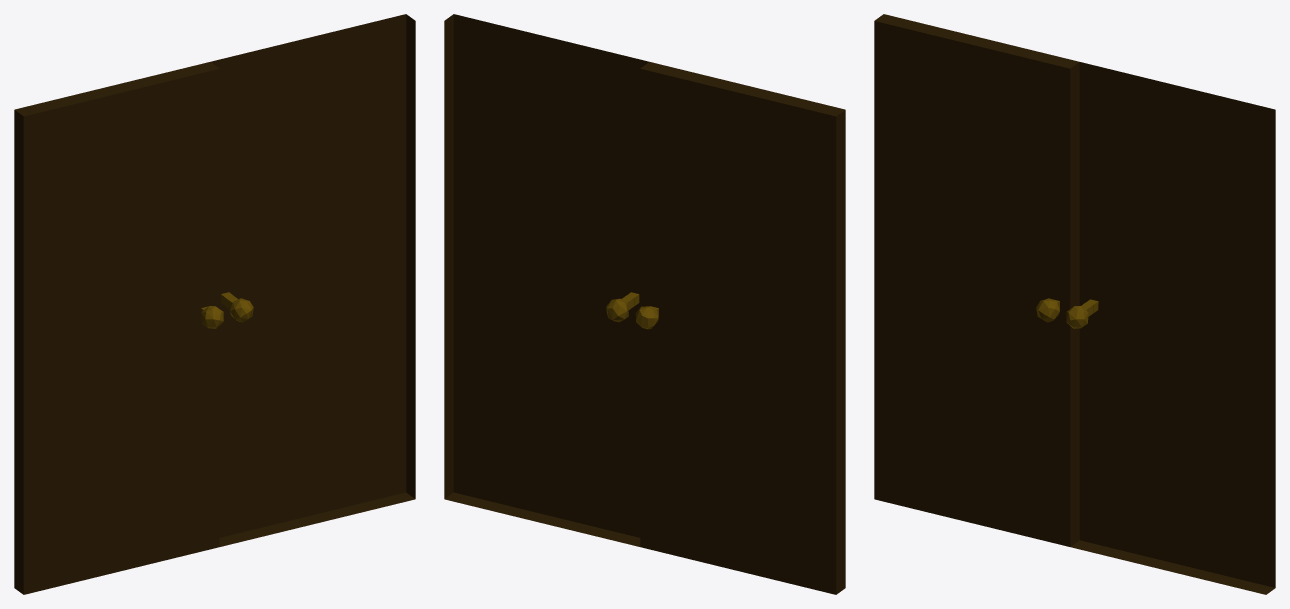
File: Dark Wood Door - Duo.glb
3 views of the same model, side by side, from view 1: azimuth 30°, elevation 25°; view 2: azimuth 150°, elevation 25°; view 3: azimuth 330°, elevation 25° (orthographic).
Visible parts, largest first — view 1: Door, Door.001; view 2: Door, Door.001; view 3: Door, Door.001.
Boxes of the visible parts, x1,y1,x2,y2 form: Door: (14, 62, 223, 594); Door.001: (210, 14, 415, 546); Door: (635, 62, 845, 594); Door.001: (444, 14, 649, 546); Door: (874, 14, 1079, 546); Door.001: (1066, 62, 1275, 594).
Bounding box in the file's own units: 1.83 × 2.13 × 0.2939.
